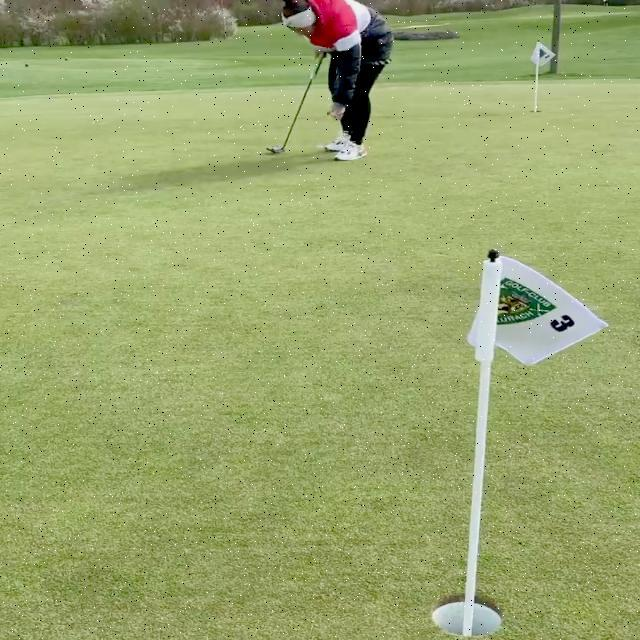golf club-handle: (265, 53, 324, 154)
golf club-head: (267, 146, 284, 155)
